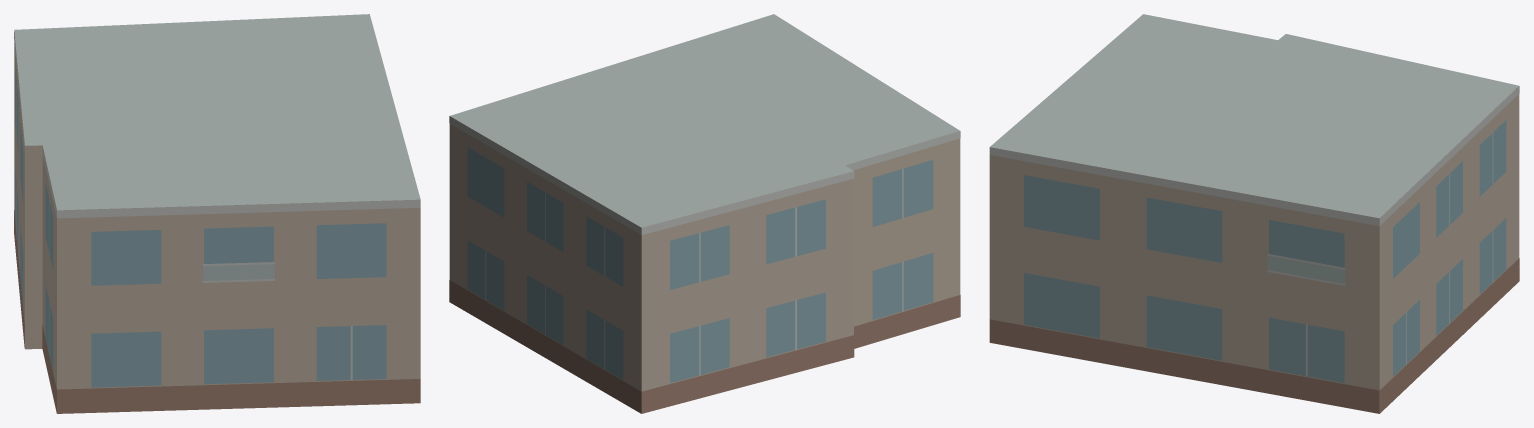
File: survey-upis-32834668.glb
The picture shows the model from 3 angles, left to right: view 1: azimuth 30°, elevation 25°; view 2: azimuth 150°, elevation 25°; view 3: azimuth 270°, elevation 25°; orthographic projection. The views are drawn at different scales.
Visible parts, largest first — view 1: survey-upis-32834668.tmp; view 2: survey-upis-32834668.tmp; view 3: survey-upis-32834668.tmp.
Part boxes in pixels (box(x1,y1,x2,y2)): survey-upis-32834668.tmp: box(14, 14, 420, 413); survey-upis-32834668.tmp: box(449, 14, 960, 413); survey-upis-32834668.tmp: box(989, 14, 1519, 413).
Bounding box in the file's own units: 13.67 × 6.1 × 14.99.
